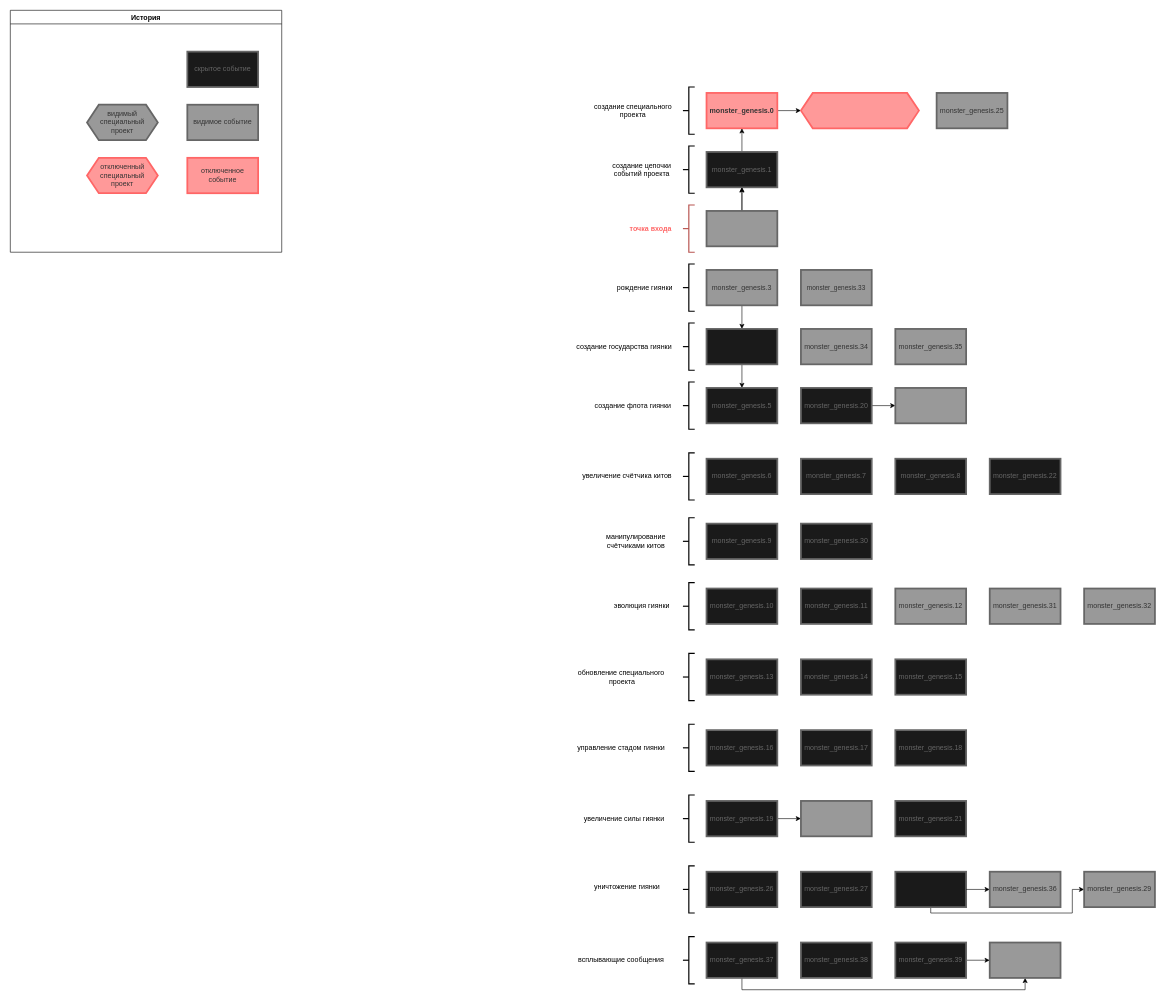
The diagram is 1166 pixels wide and 1005 high, and some of its shapes have lost their labels. Here are the shapes that lost their labels. From the top down, the centre of each, then its label:
the point at 860,110: MONGEN_TIYANKI_ARC_PROJECT
the point at 741,228: monster_genesis.2
the point at 741,346: monster_genesis.4
the point at 930,405: monster_genesis.24
the point at 836,818: monster_genesis.23
the point at 930,889: monster_genesis.28
the point at 1025,960: monster_genesis.40
